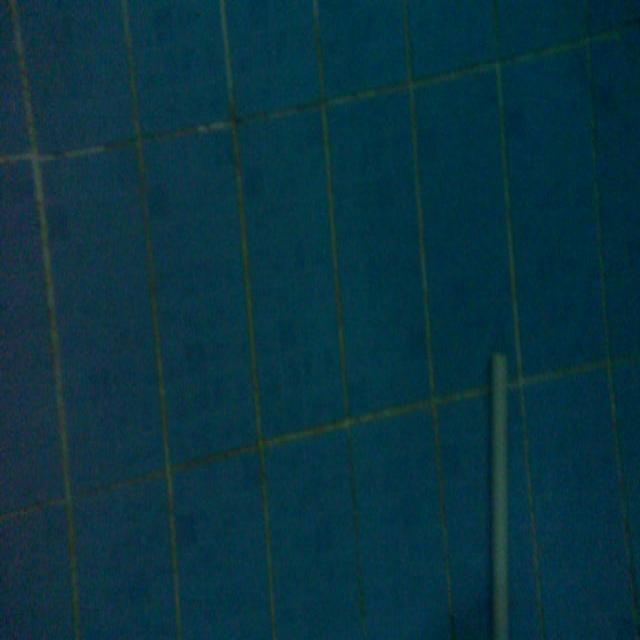Cube: (487, 346, 511, 636)
